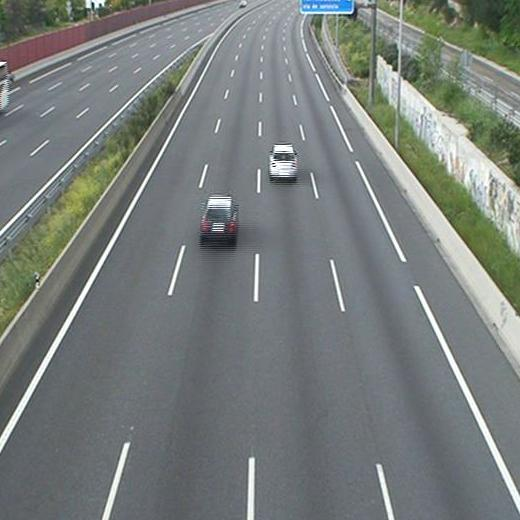car: (199, 194, 240, 248), (267, 144, 299, 184)
